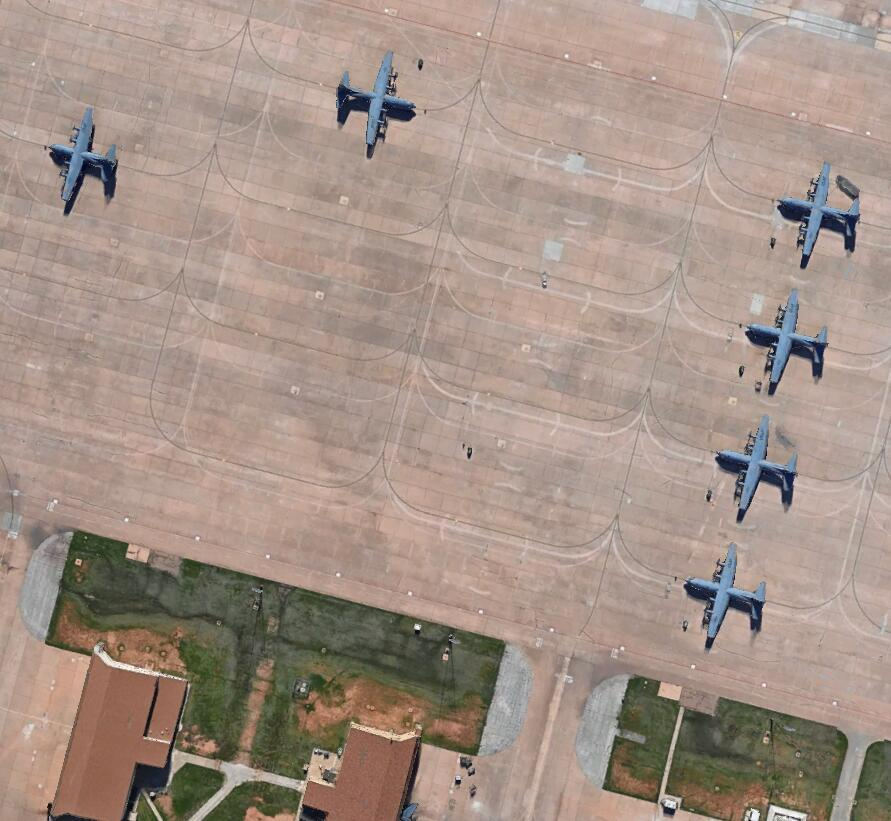A2: (772, 151, 865, 271), (712, 413, 814, 517), (680, 538, 771, 650), (334, 46, 424, 157), (745, 283, 835, 393), (41, 104, 126, 215)
